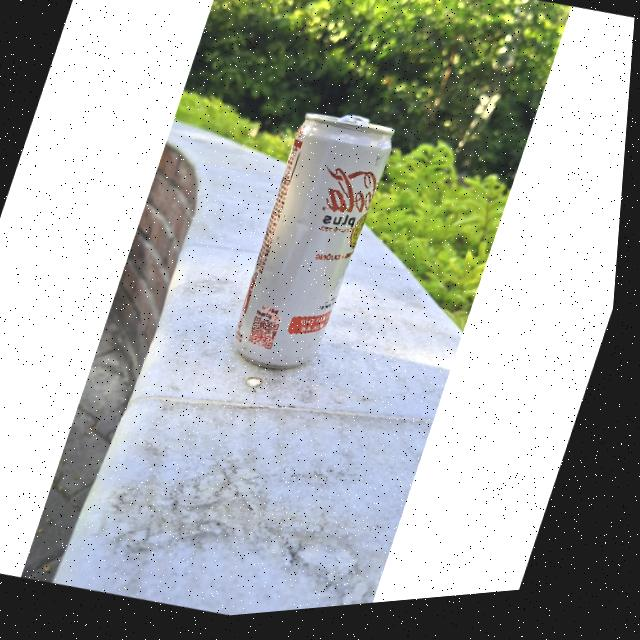Coca Cola Plus: (222, 105, 410, 388)
